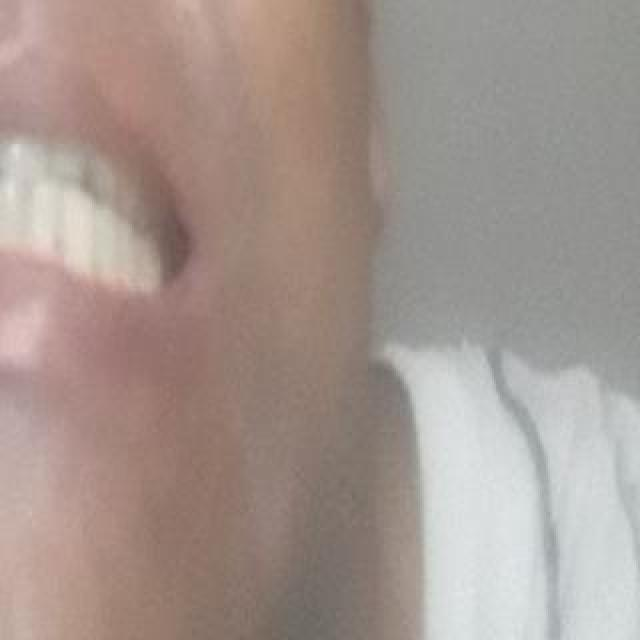spacing: (0, 128, 6, 198)
